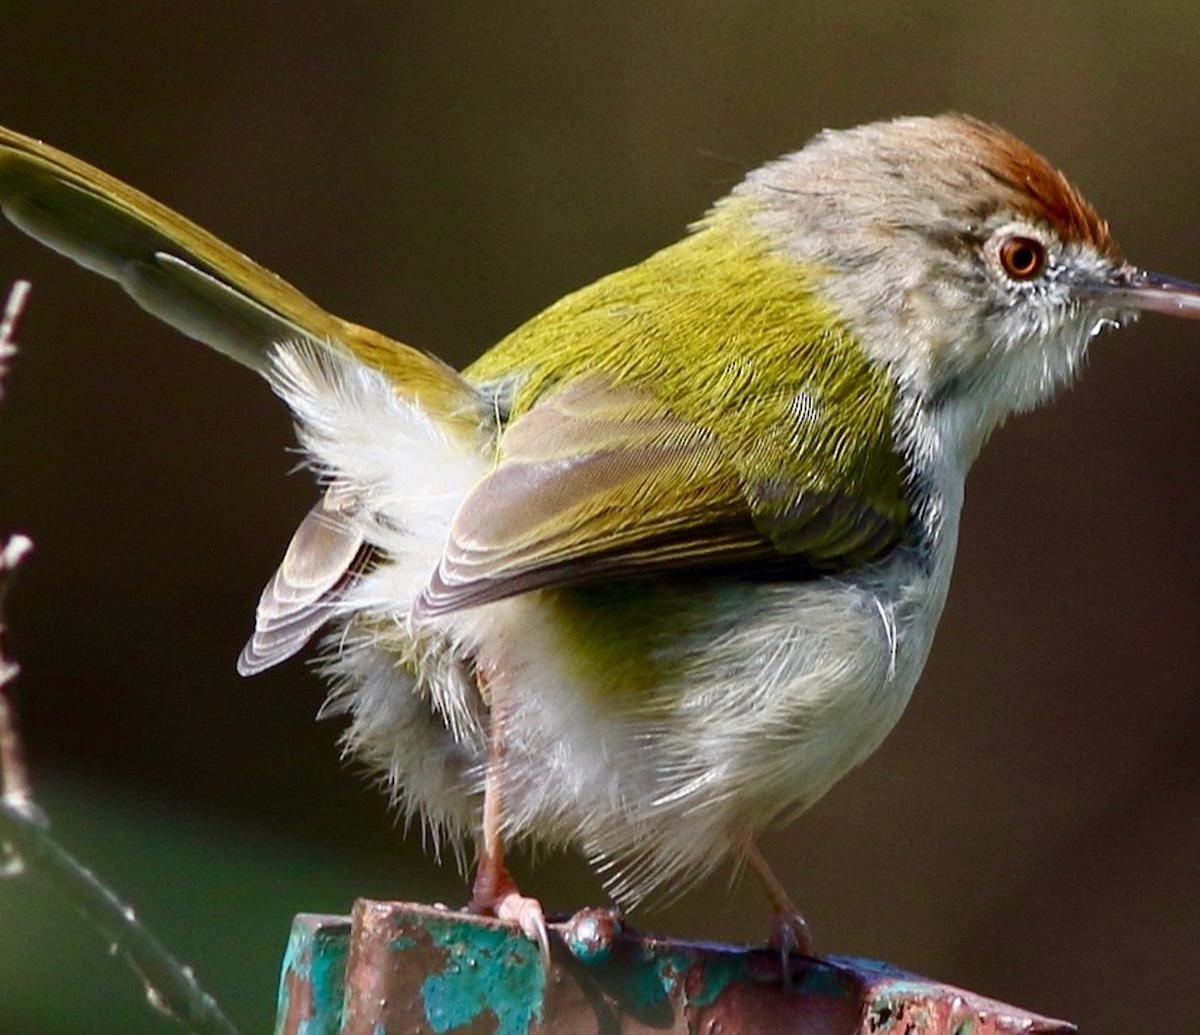tailorbird: (1, 94, 1192, 897)
